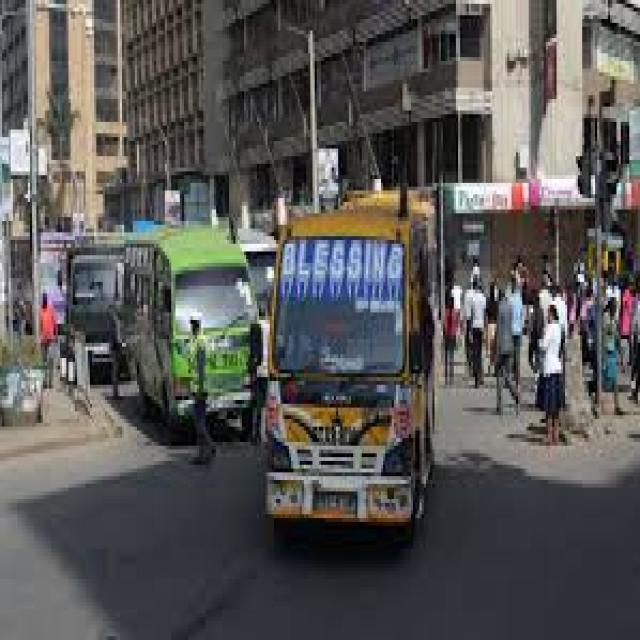bus: (266, 208, 445, 585), (123, 216, 259, 452), (6, 224, 64, 346)
